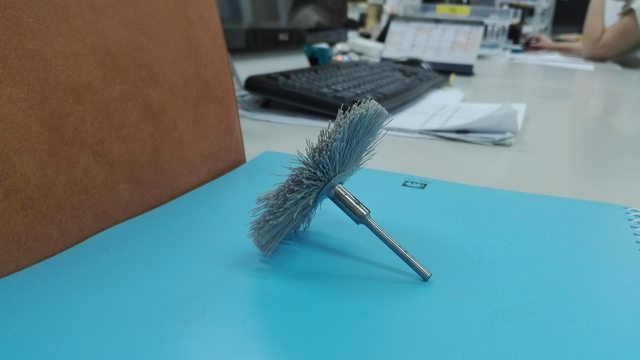TOOL: (222, 90, 455, 291)
